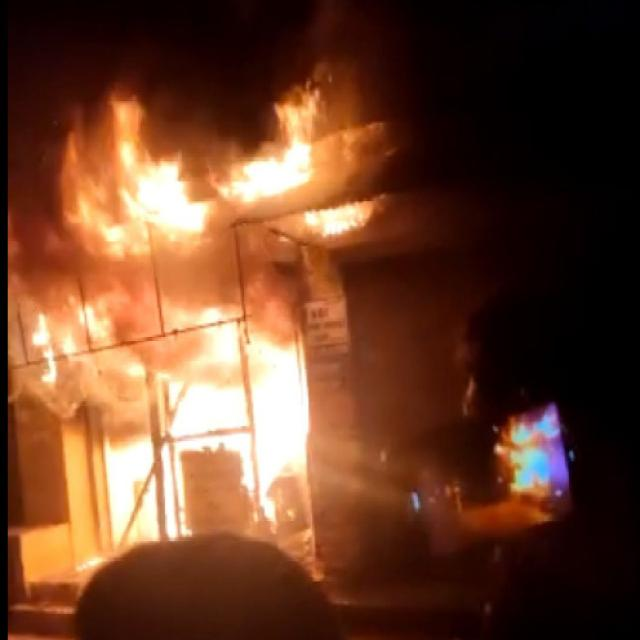fire: (206, 243, 324, 581), (9, 259, 202, 419), (224, 81, 392, 242), (60, 97, 223, 258), (79, 419, 190, 589), (492, 407, 572, 527)
